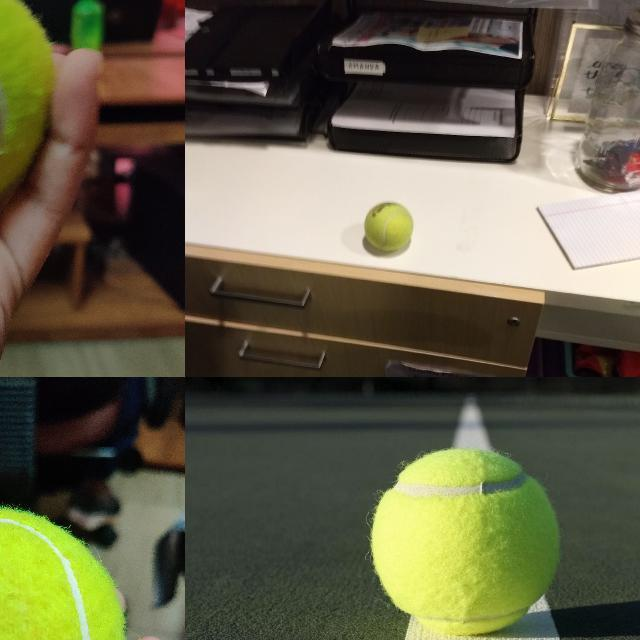tennis-ball: (370, 449, 560, 632), (0, 506, 126, 639), (363, 202, 413, 251)
